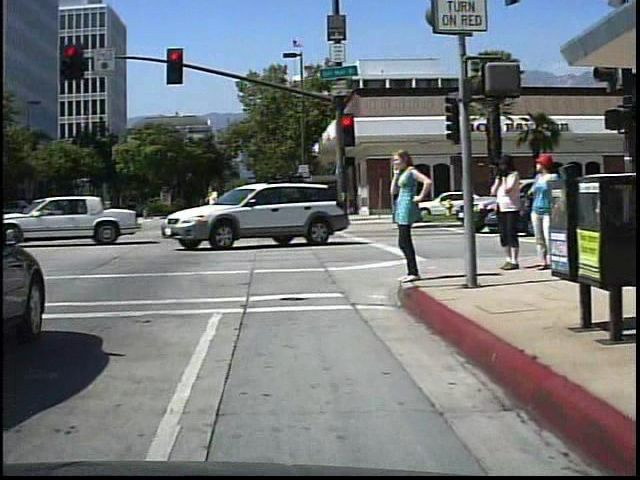person: (385, 146, 431, 289), (522, 146, 563, 272), (482, 148, 524, 271)
